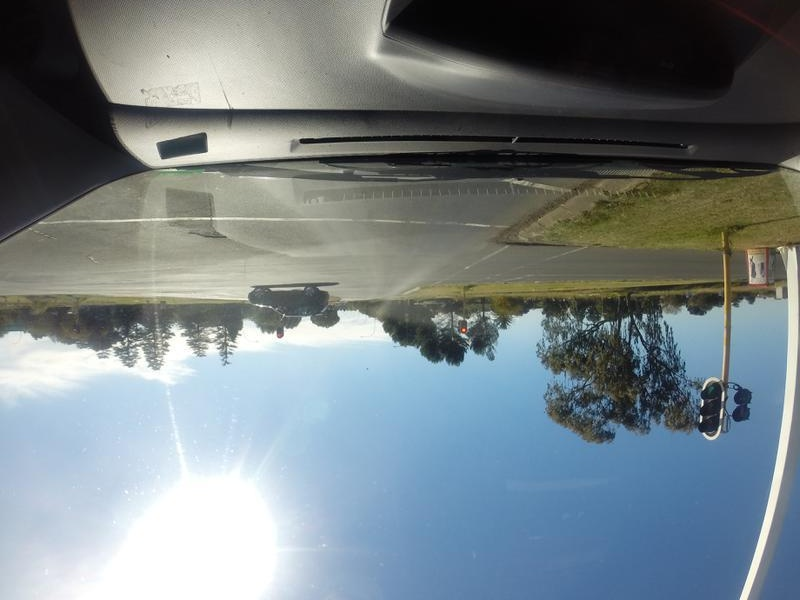pothole: (181, 223, 231, 245)
